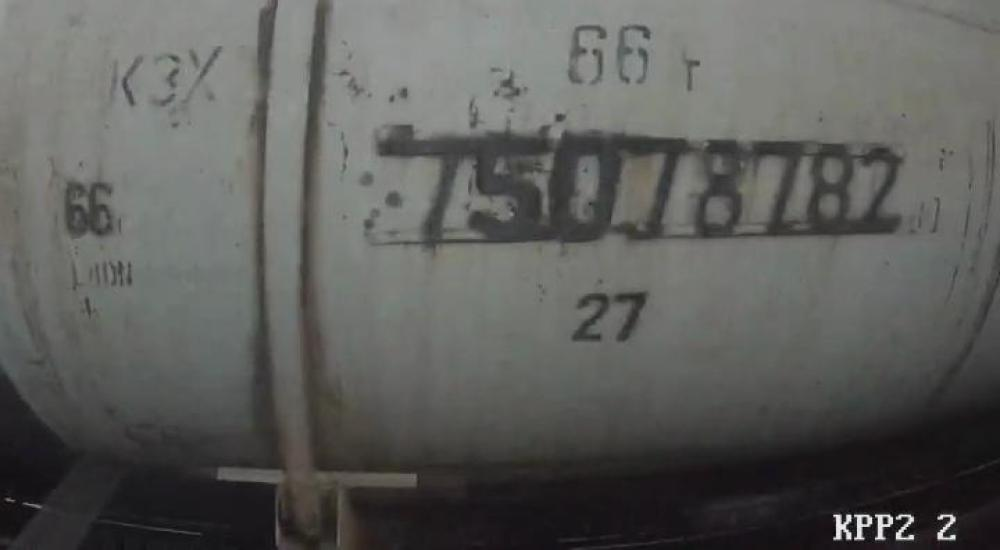Wagon-number: (390, 126, 913, 255)
